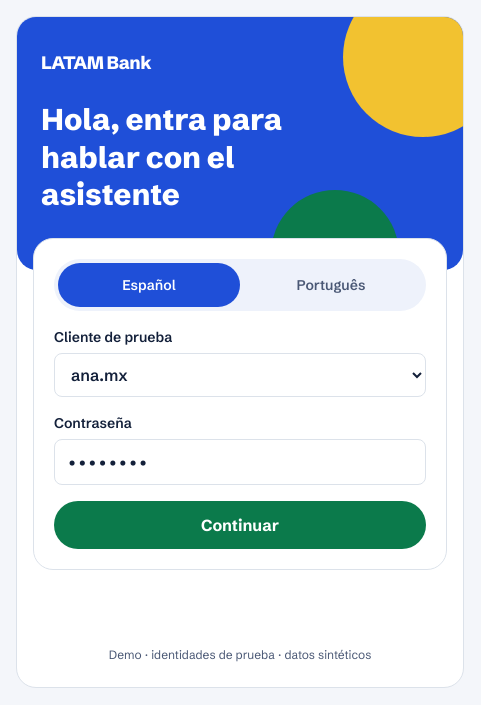
Test: LoginForm › filters identities by language and switches the copy
Expected: the heading "Hola, entra para hablar con el asistente" is shown, 41,101 -> 282,213
Click the radio button labelled "Português": point(331, 284) 240,262 -> 422,306
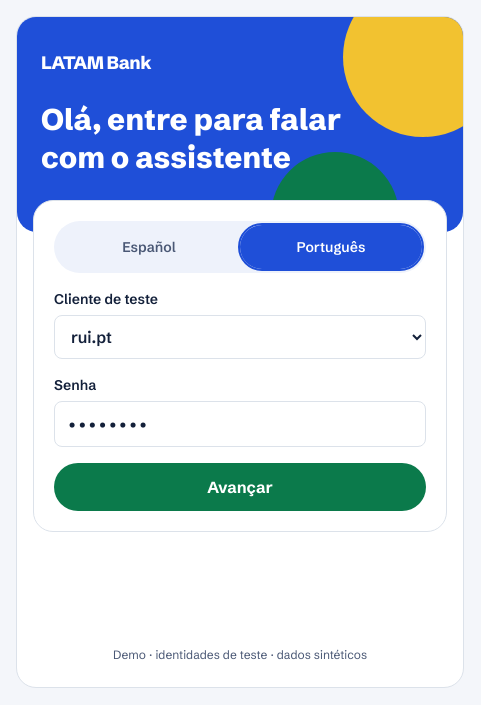
Expected: the heading "Olá, entre para falar com o assistente" is shown, 41,101 -> 348,176
Expected: the dropdown shows "rui.pt", 54,315 -> 426,359
